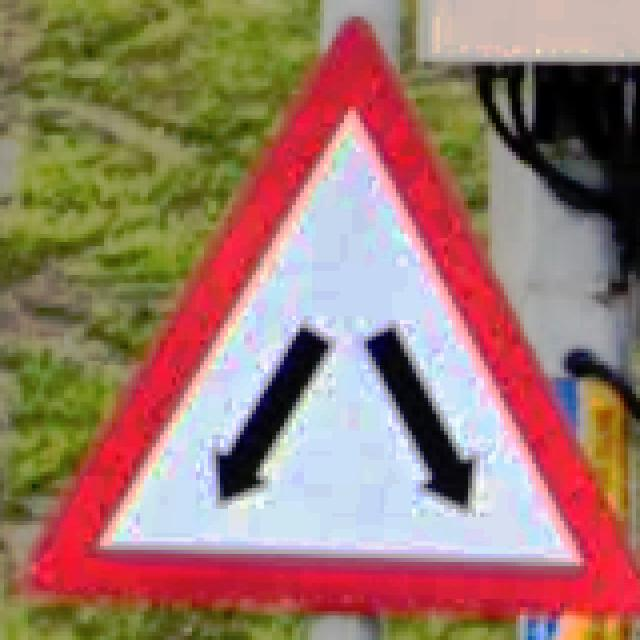diverge: (12, 12, 636, 624)
